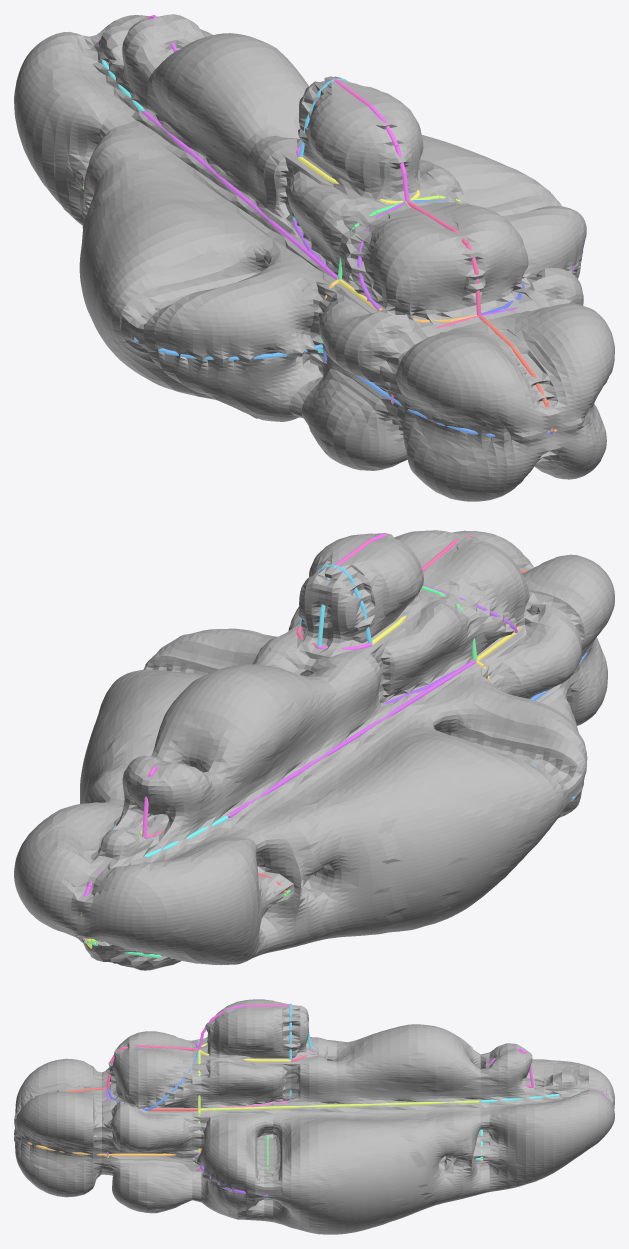
File: scaffolds3d_submarine.gltf
3 views of the same model, one above another, from view 1: azimuth 30°, elevation 25°; view 2: azimuth 150°, elevation 25°; view 3: azimuth 270°, elevation 25° (orthographic). The views are drawn at different scales.
Bounding box in the file's own units: 0.4673 × 0.3202 × 0.8612.
